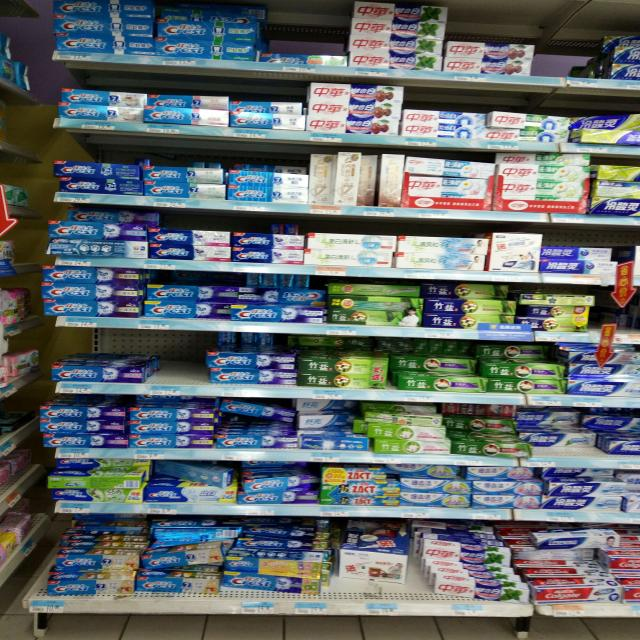unorganised: (217, 398, 640, 460), (513, 527, 632, 599), (422, 541, 517, 604), (223, 559, 331, 597), (543, 469, 628, 512), (336, 553, 409, 600), (402, 107, 573, 127), (146, 92, 303, 112), (145, 284, 234, 317), (143, 542, 222, 579), (157, 1, 264, 23), (240, 465, 319, 493), (256, 46, 352, 66), (480, 343, 563, 365), (52, 207, 155, 224), (395, 355, 482, 374), (155, 463, 228, 485), (309, 152, 335, 208), (237, 288, 324, 304), (393, 465, 468, 482), (423, 285, 514, 299), (360, 154, 380, 208)
